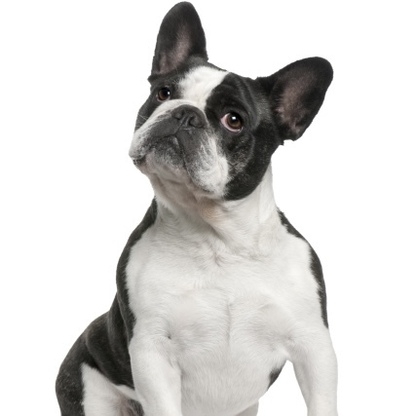bulldog: (64, 5, 348, 416)
